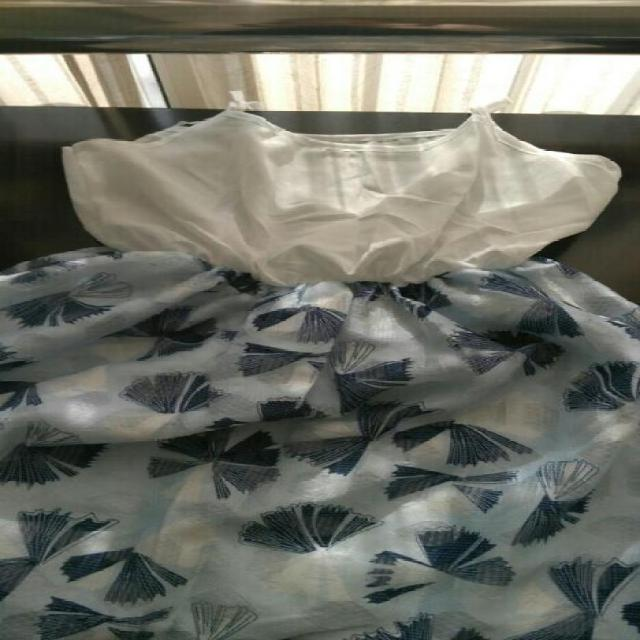skirt: (0, 246, 640, 640)
sling: (62, 91, 624, 288)
